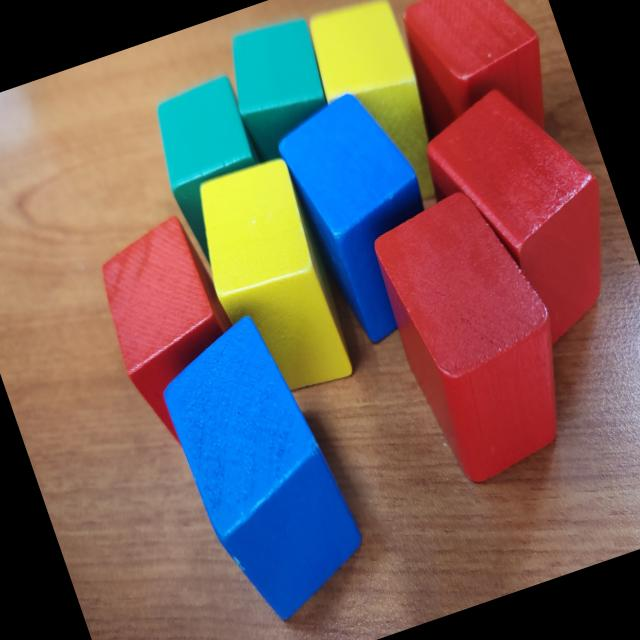blue: (147, 304, 380, 636), (266, 79, 465, 355)
green: (139, 73, 287, 274), (215, 12, 348, 169)
red: (358, 178, 594, 496), (407, 61, 640, 368), (82, 208, 266, 458), (380, 0, 568, 170)
yellow: (179, 152, 362, 408), (299, 0, 459, 219)
